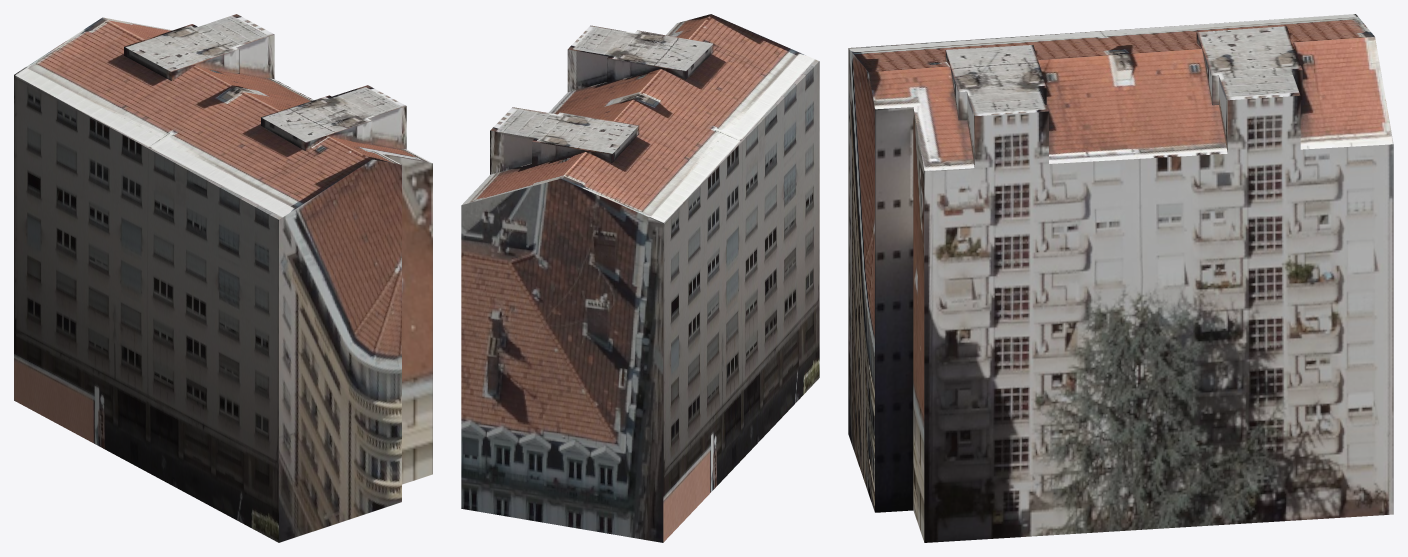
The picture shows the model from 3 angles, left to right: view 1: azimuth 30°, elevation 25°; view 2: azimuth 150°, elevation 25°; view 3: azimuth 270°, elevation 25°; orthographic projection. The views are drawn at different scales.
Parts seen in each view (by area): view 1: Z_UP; view 2: Z_UP; view 3: Z_UP.
Part boxes in pixels (bbox=[...]): Z_UP: bbox=[14, 14, 432, 542]; Z_UP: bbox=[461, 14, 819, 542]; Z_UP: bbox=[848, 14, 1393, 542].
Bounding box in the file's own units: 18.26 × 25.97 × 30.21.
2 materials, 1 textured.
